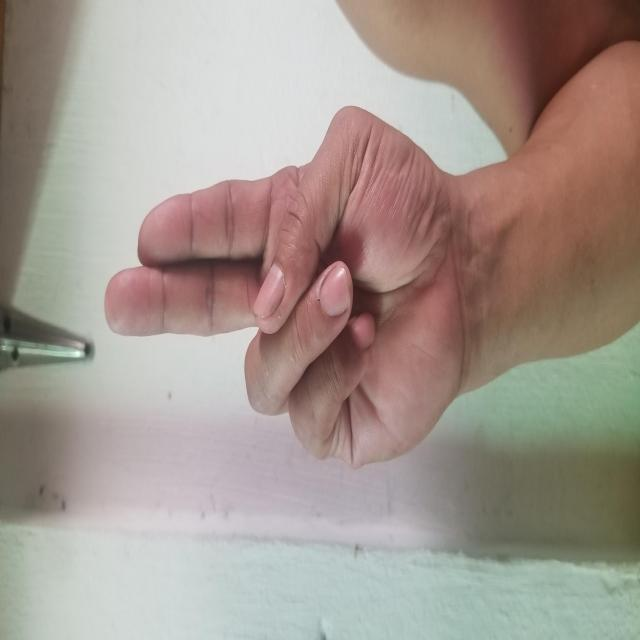U: (170, 105, 533, 463)
